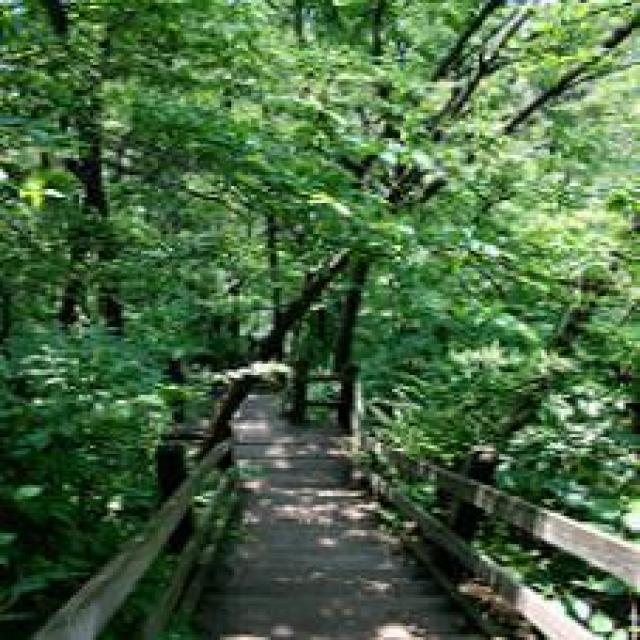upstair: (131, 410, 520, 632)
